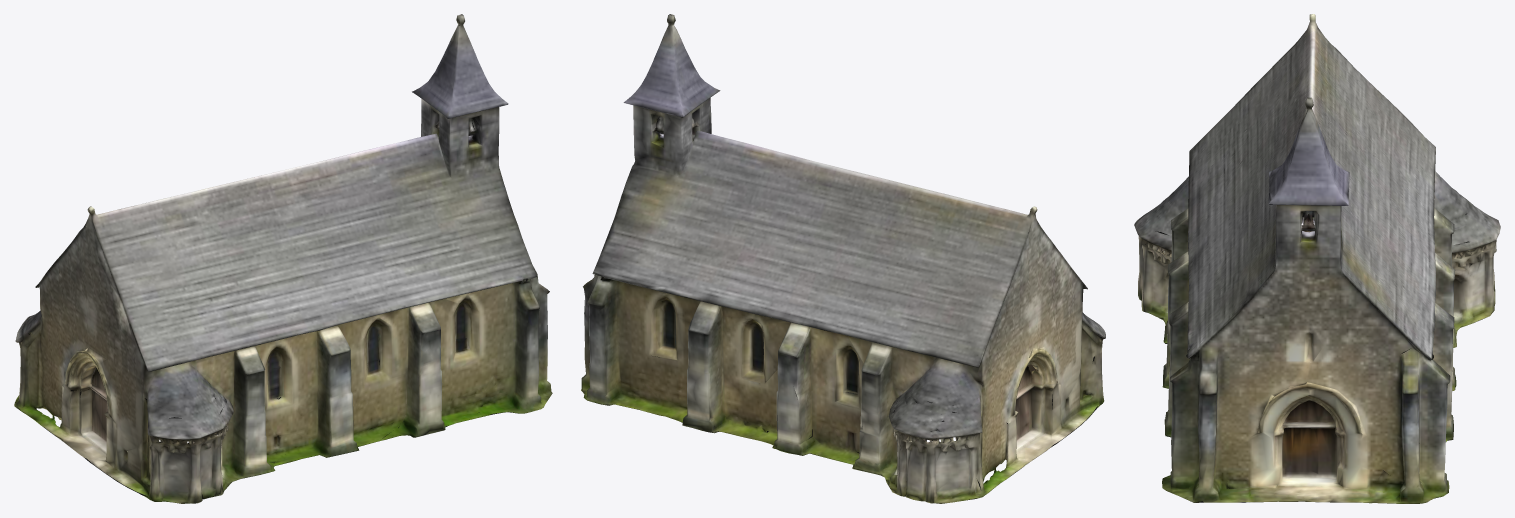
File: ga3_church_lod0.glb
3 renders of one model, left to right at view 1: azimuth 30°, elevation 25°; view 2: azimuth 150°, elevation 25°; view 3: azimuth 270°, elevation 25°, orthographic. The views are drawn at different scales.
Visible parts, largest first — view 1: ga3_church_lod0; view 2: ga3_church_lod0; view 3: ga3_church_lod0.
Boxes of the visible parts, <box> form: ga3_church_lod0: <box>14,14,552,503</box>; ga3_church_lod0: <box>581,14,1105,503</box>; ga3_church_lod0: <box>1134,14,1500,503</box>.
Size of the model in its own units: 22.01 by 17.44 by 15.06.
1 material, 1 textured.
